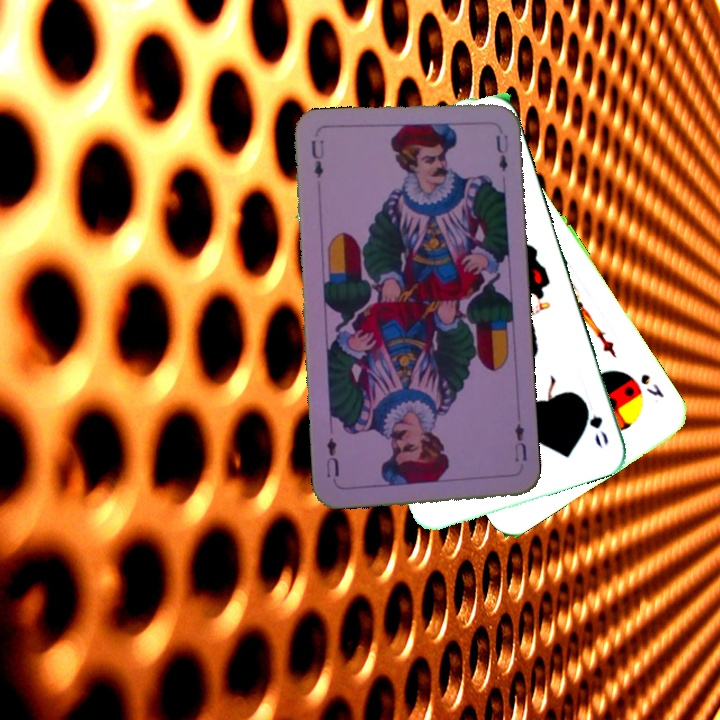EU: (510, 419, 530, 464), (307, 136, 327, 181)
GO: (577, 394, 611, 451)
SK: (636, 369, 667, 401)
